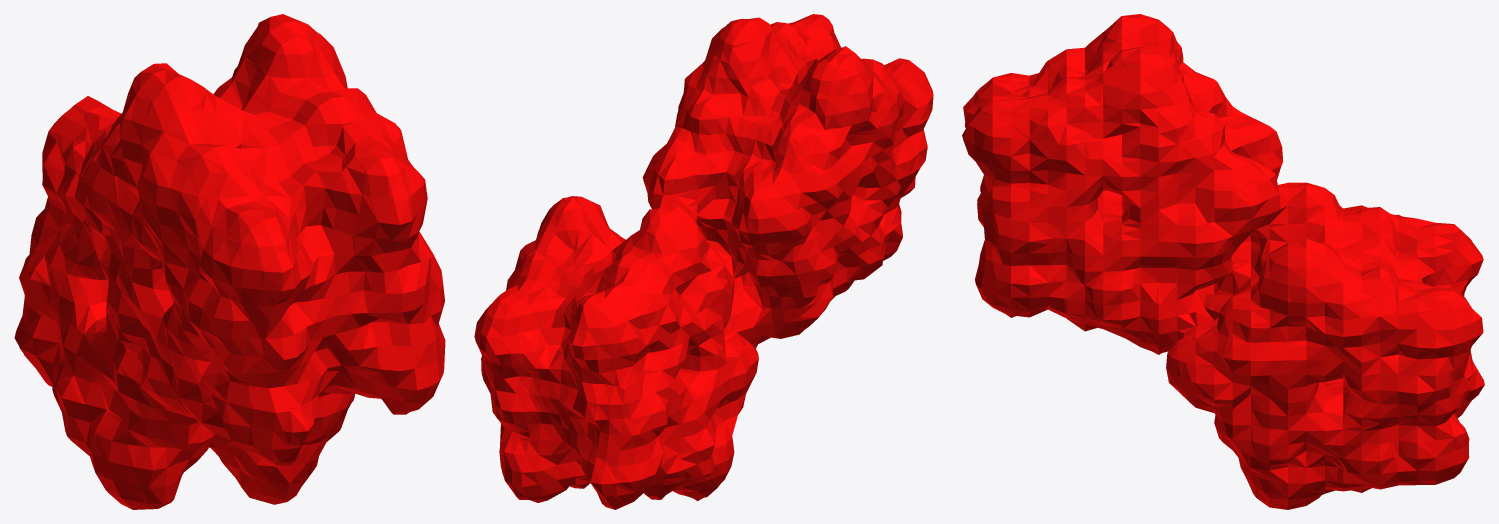
File: lsrF_coarse.dae
3 views of the same model, side by side, from view 1: azimuth 30°, elevation 25°; view 2: azimuth 150°, elevation 25°; view 3: azimuth 270°, elevation 25° (orthographic). The views are drawn at different scales.
Parts seen in each view (by area): view 1: lsrF; view 2: lsrF; view 3: lsrF.
Boxes of the visible parts, x1,y1,x2,y2 form: lsrF: [14, 14, 445, 509]; lsrF: [474, 14, 933, 509]; lsrF: [962, 14, 1484, 509].
Size of the model in its own units: 113 by 176 by 194.
